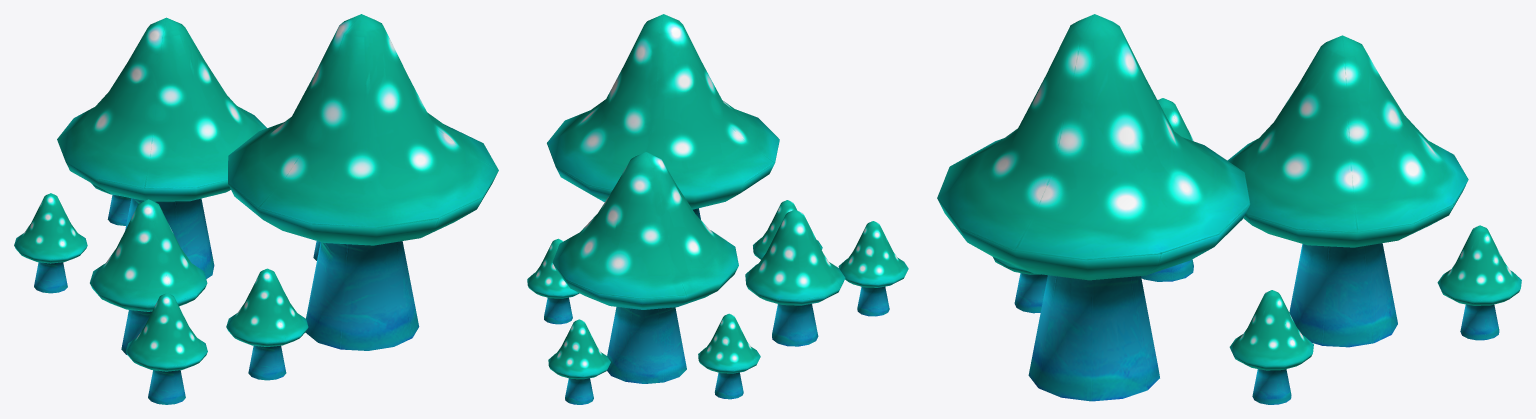
Rendered from Plant_003.fbx.
3 renders of one model, left to right at view 1: azimuth 30°, elevation 25°; view 2: azimuth 150°, elevation 25°; view 3: azimuth 270°, elevation 25°, orthographic. The views are drawn at different scales.
Visible parts, largest first — view 1: Plant_003; view 2: Plant_003; view 3: Plant_003.
Part boxes in pixels (x1,y1,x2,y2): Plant_003: (14, 14, 498, 404); Plant_003: (527, 14, 908, 404); Plant_003: (937, 14, 1521, 404).
Size of the model in its own units: 192 by 154 by 226.
